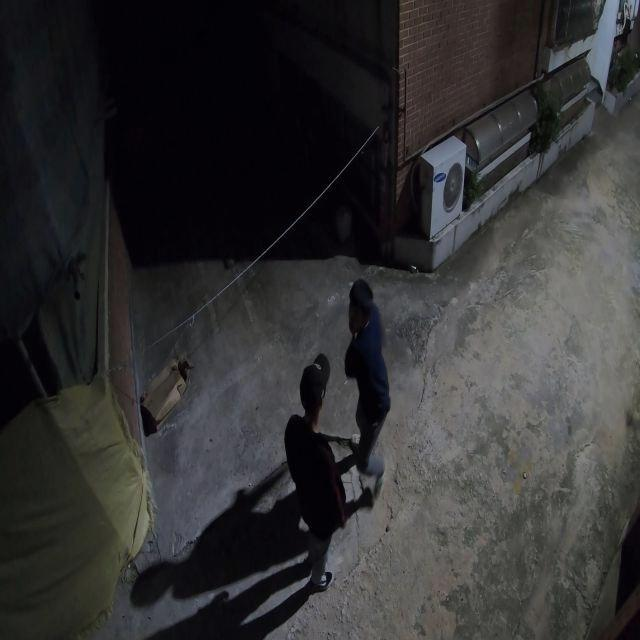fight: (280, 276, 394, 597)
